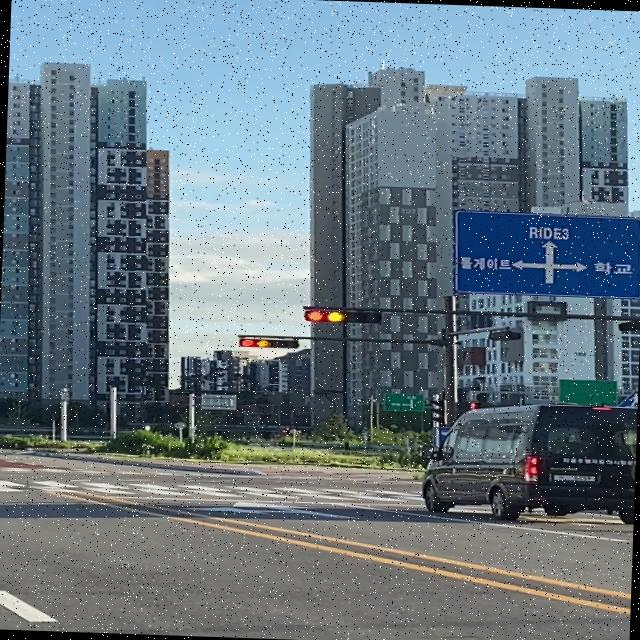yellow_light: (304, 308, 382, 324), (238, 337, 299, 349)
